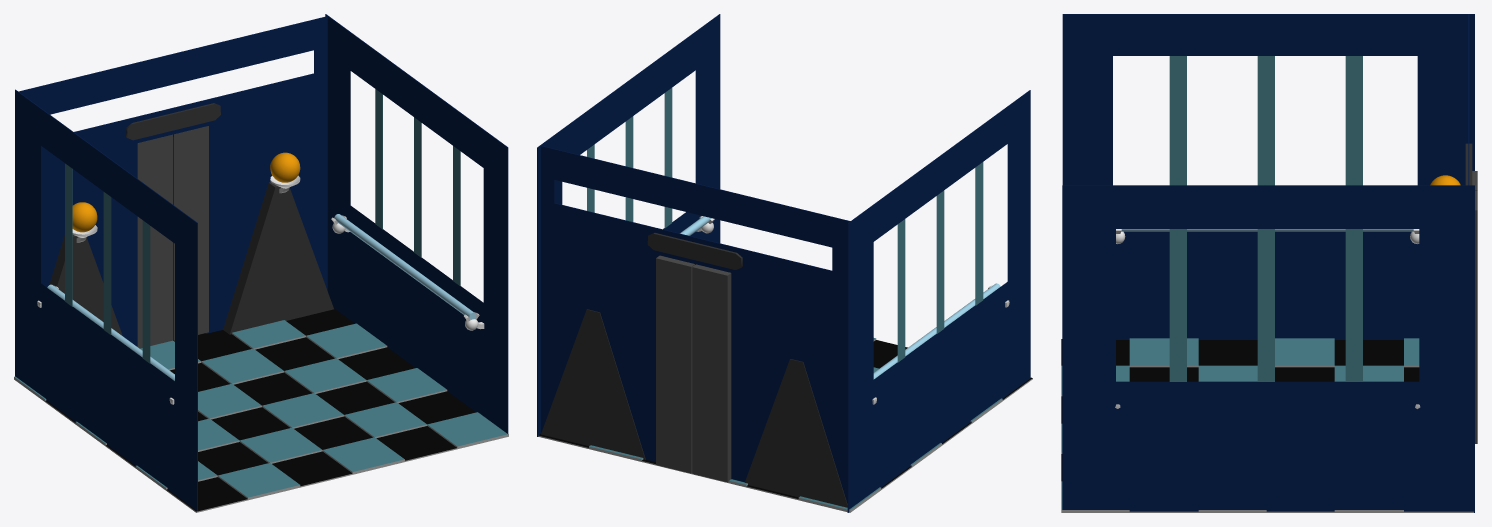
Rendered from GameJamHellevator.fbx.
The picture shows the model from 3 angles, left to right: view 1: azimuth 30°, elevation 25°; view 2: azimuth 150°, elevation 25°; view 3: azimuth 270°, elevation 25°; orthographic projection. The views are drawn at different scales.
Parts seen in each view (by area): view 1: pCube22; view 2: pCube22; view 3: pCube22.
Boxes of the visible parts, x1,y1,x2,y2 form: pCube22: [14, 14, 508, 512]; pCube22: [537, 14, 1032, 512]; pCube22: [1061, 14, 1477, 512].
Size of the model in its own units: 23.96 by 21.1 by 24.35.
